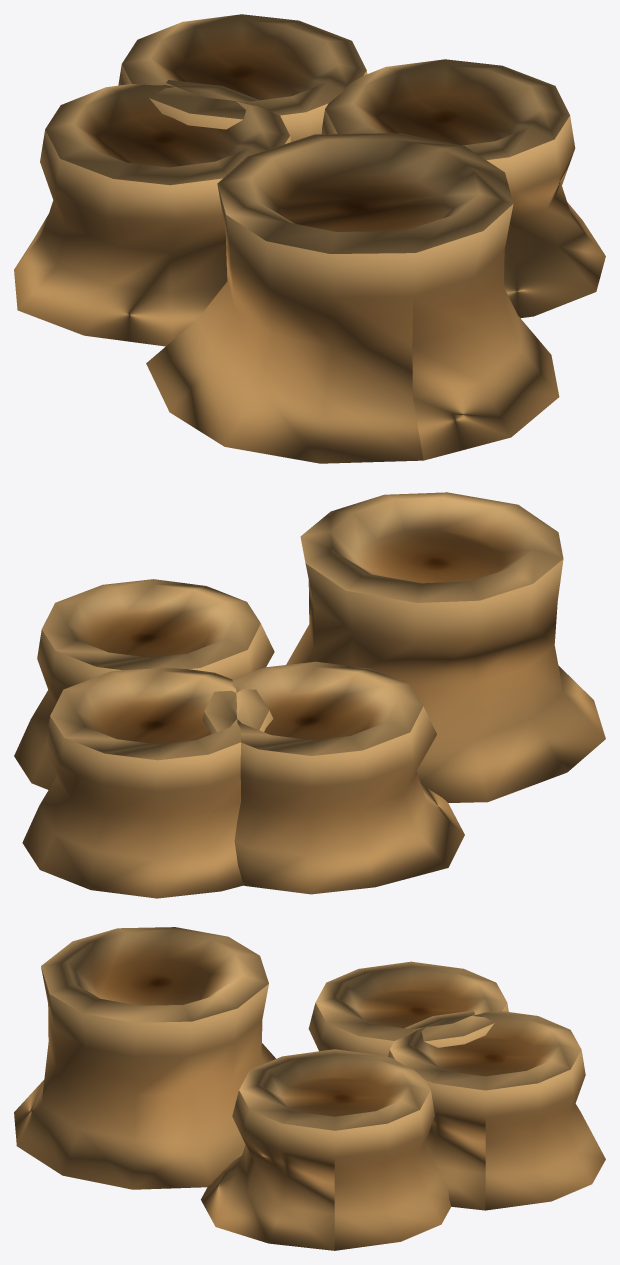
File: FloorDeco1B-001_02_24_7199.fbx
3 views of the same model, one above another, from view 1: azimuth 30°, elevation 25°; view 2: azimuth 150°, elevation 25°; view 3: azimuth 270°, elevation 25° (orthographic). The views are drawn at different scales.
Visible parts, largest first — view 1: PropCandles1 (2), PropCandles1, PropCandles1 (1), PropCandles1 (3); view 2: PropCandles1 (2), PropCandles1, PropCandles1 (3), PropCandles1 (1); view 3: PropCandles1 (2), PropCandles1 (1), PropCandles1 (3), PropCandles1.
Boxes of the visible parts, left/top/right/bottom form: PropCandles1 (2): left=146, top=133, right=559, bottom=463; PropCandles1: left=14, top=80, right=290, bottom=346; PropCandles1 (1): left=321, top=59, right=605, bottom=318; PropCandles1 (3): left=118, top=14, right=367, bottom=141; PropCandles1 (2): left=286, top=492, right=605, bottom=802; PropCandles1: left=203, top=661, right=464, bottom=894; PropCandles1 (3): left=22, top=667, right=273, bottom=898; PropCandles1 (1): left=14, top=579, right=274, bottom=789; PropCandles1 (2): left=14, top=927, right=275, bottom=1189; PropCandles1 (1): left=201, top=1049, right=451, bottom=1250; PropCandles1 (3): left=388, top=1010, right=605, bottom=1210; PropCandles1: left=308, top=961, right=508, bottom=1056.
Size of the model in its own units: 1.34 by 0.4977 by 1.71.
